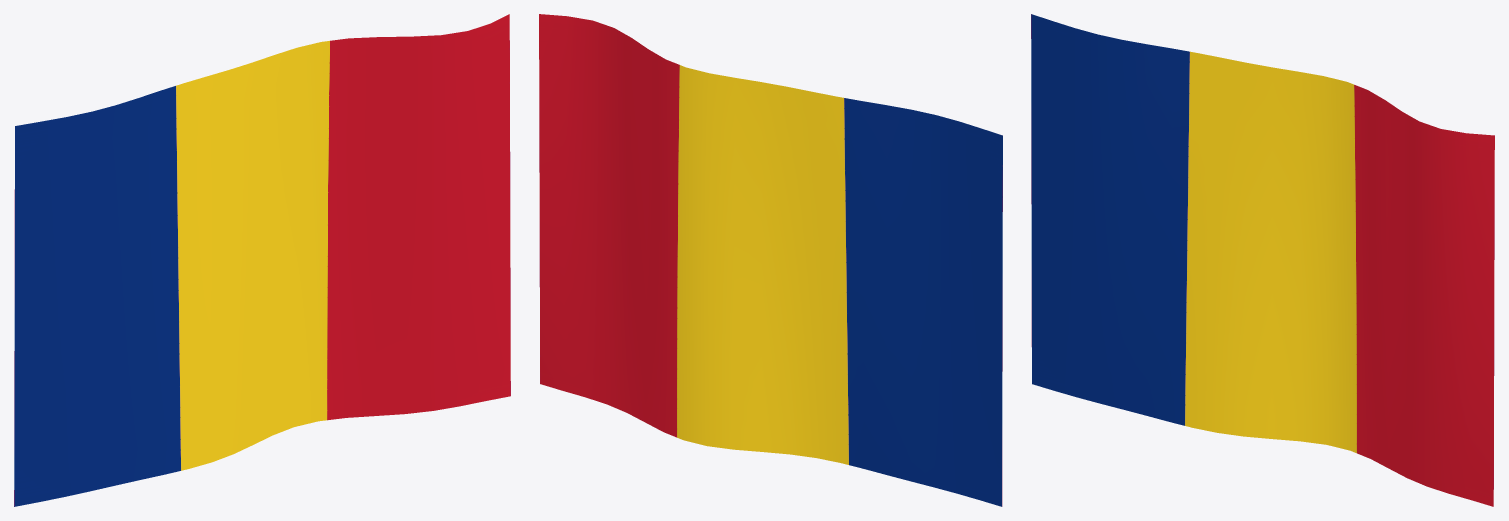
The model's file is RO_Romania.glb.
The picture shows the model from 3 angles, left to right: view 1: azimuth 30°, elevation 25°; view 2: azimuth 150°, elevation 25°; view 3: azimuth 330°, elevation 25°; orthographic projection. The views are drawn at different scales.
Visible parts, largest first — view 1: RO_flag; view 2: RO_flag; view 3: RO_flag.
Part boxes in pixels (left/top/right/bottom): RO_flag: left=14, top=14, right=510, bottom=506; RO_flag: left=539, top=14, right=1002, bottom=506; RO_flag: left=1031, top=14, right=1494, bottom=506.
Bounding box in the file's own units: 1.33 × 1 × 0.1347.
Materials: 1 (1 with a texture image).
